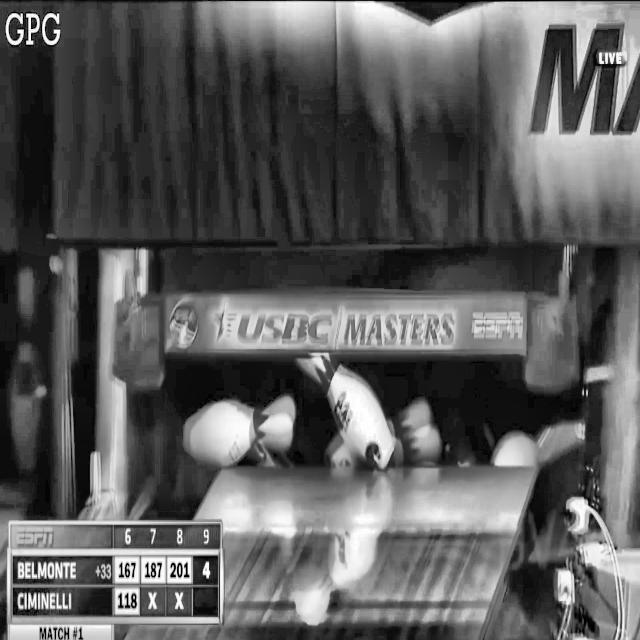sweep board: (164, 291, 580, 393), (113, 297, 163, 389)
